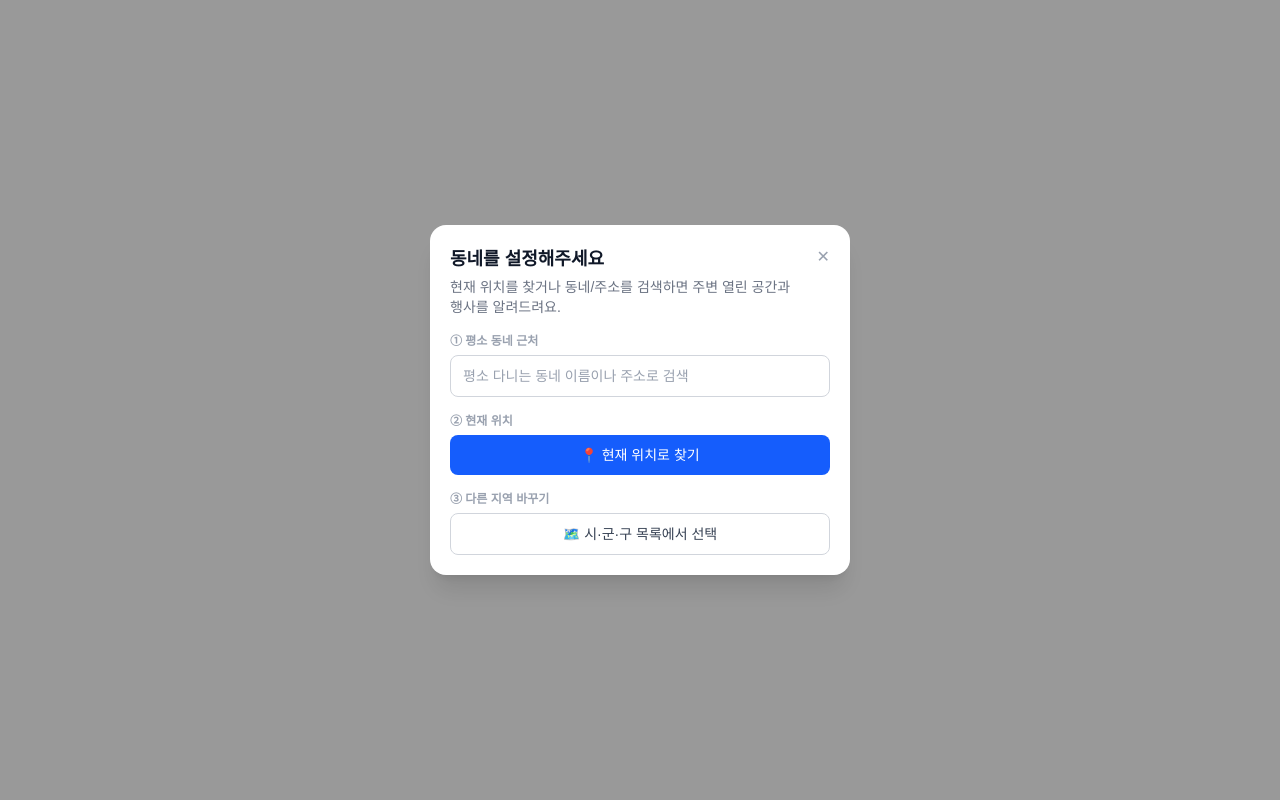
it: LocationOnboardingModal (Task 9-1-8: GPS 2단계 Fallback) › 지역 검색창에 입력하면 즉시 일치하는 지역만 필터링해서 보여준다
Click the button "📍 현재 위치로 찾기": (640, 455) top-left (450, 435), bottom-right (830, 475)
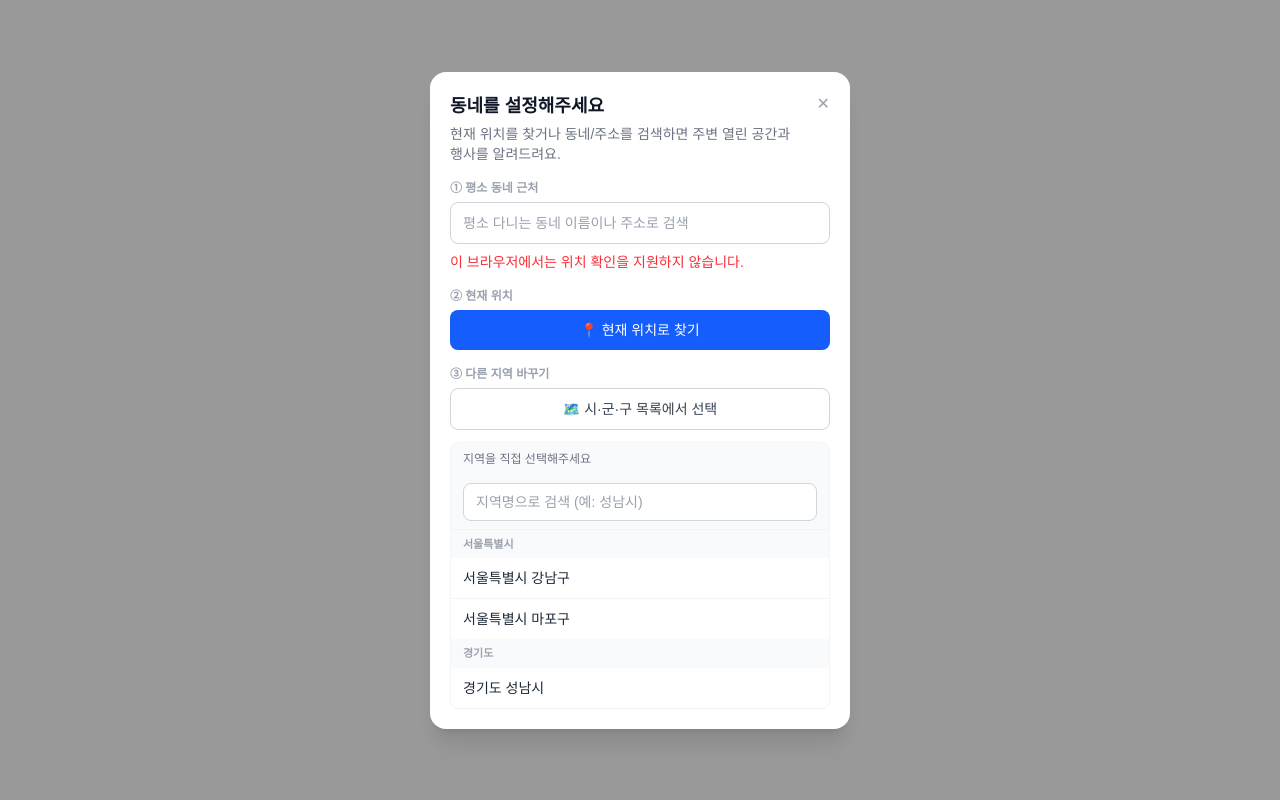
Expected: the button "서울특별시 강남구" is shown, top-left (451, 558), bottom-right (829, 598)
In the field named "지역 검색": (640, 502) top-left (463, 482), bottom-right (817, 520), type "성남"
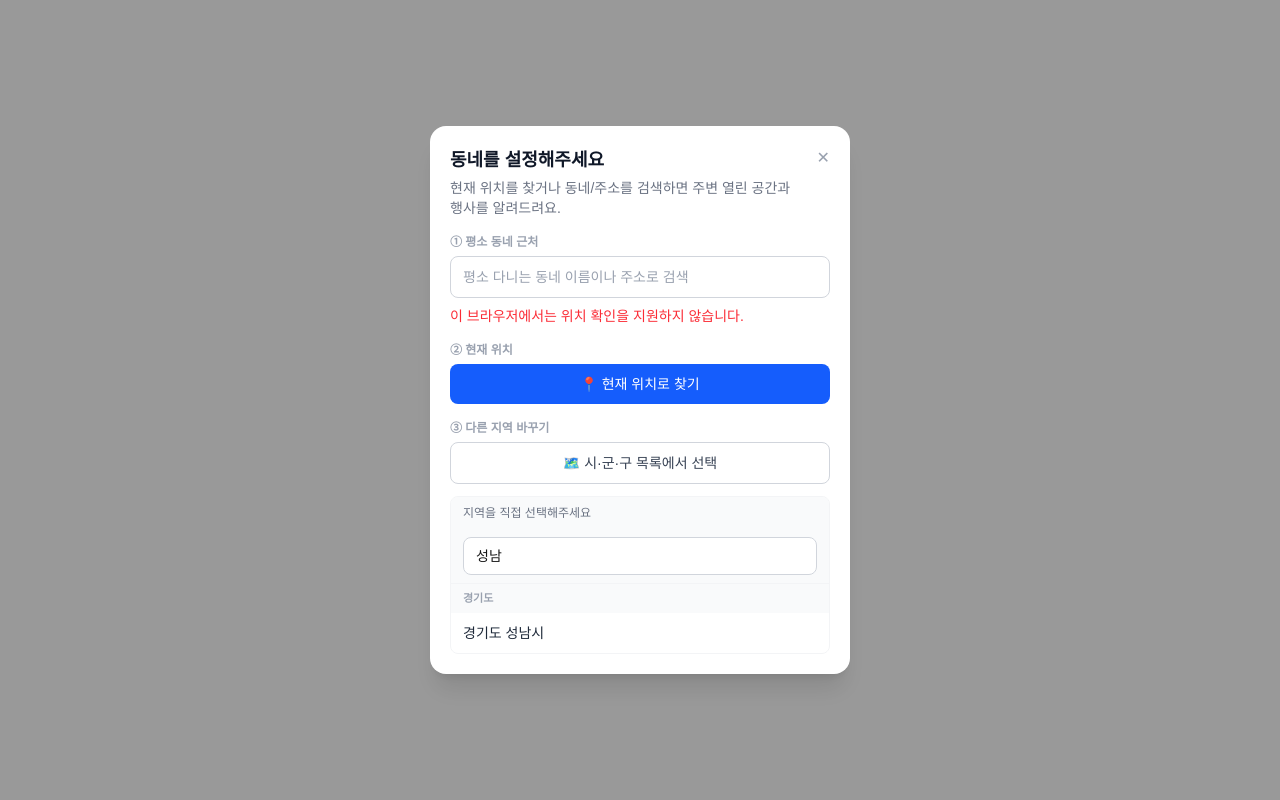
Expected: the button "경기도 성남시" is shown, top-left (451, 613), bottom-right (829, 653)
Expected: the button "서울특별시 강남구" is gone
Expected: the button "서울특별시 마포구" is gone
